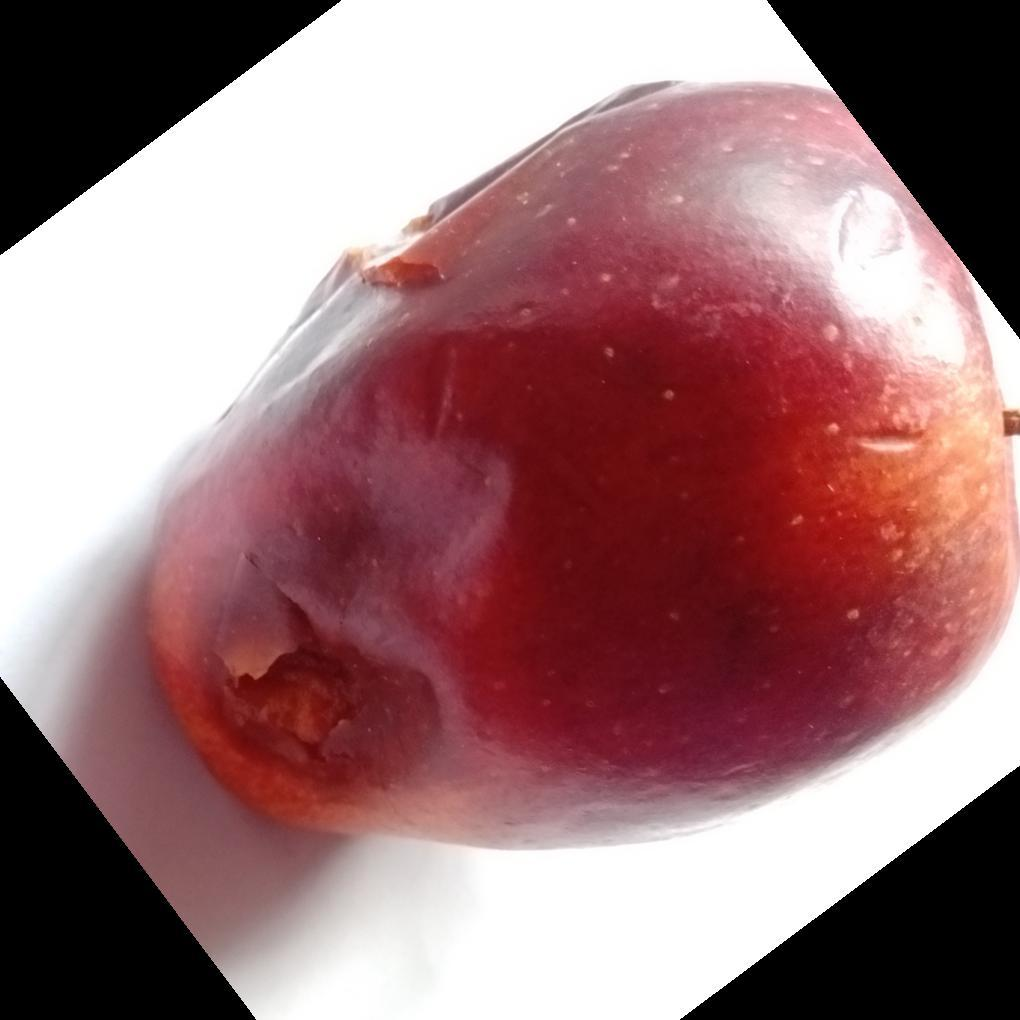FreshOrange: (132, 81, 1020, 856)
